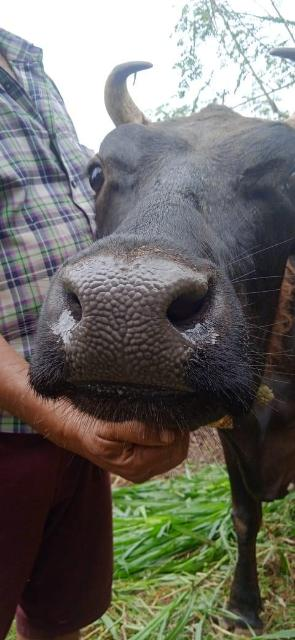Muzzle: (65, 259, 197, 385)
